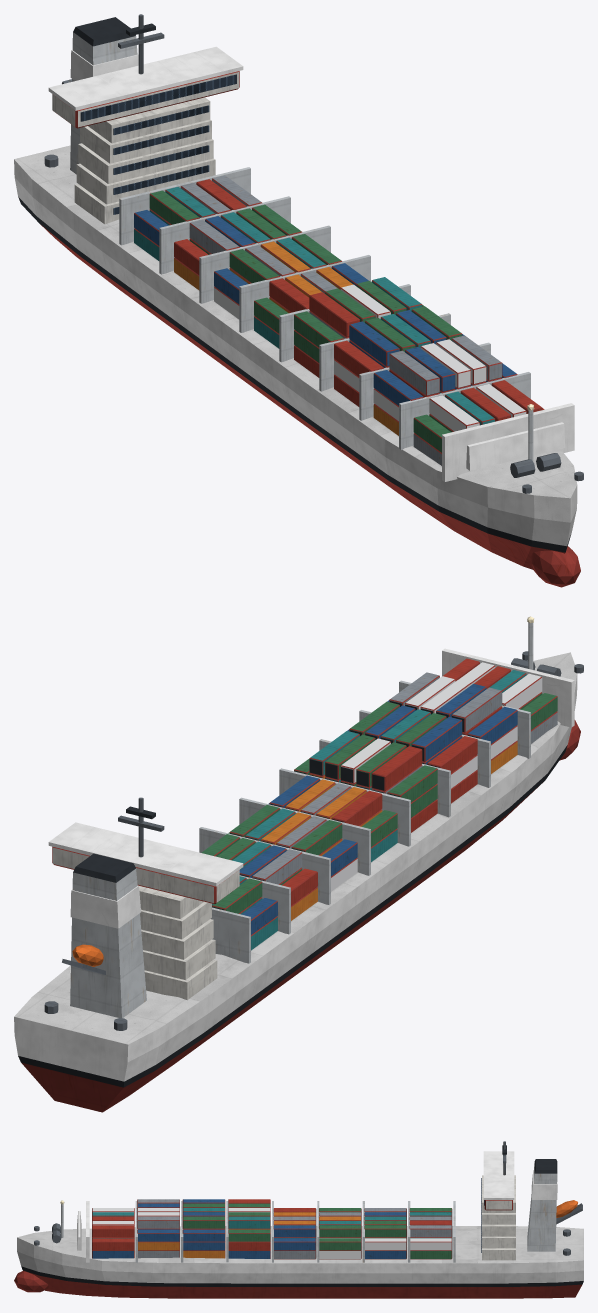
Rendered from trade_ship.gltf.
3 views of the same model, one above another, from view 1: azimuth 30°, elevation 25°; view 2: azimuth 150°, elevation 25°; view 3: azimuth 270°, elevation 25° (orthographic). The views are drawn at different scales.
Parts seen in each view (by area): view 1: TradeShip; view 2: TradeShip; view 3: TradeShip.
Boxes of the visible parts, x1,y1,x2,y2 form: TradeShip: (14,14,583,587); TradeShip: (14,616,583,1112); TradeShip: (14,1141,583,1298).
Size of the model in its own units: 0.194 by 0.292 by 1.01.
Materials: 17 (15 with a texture image).
